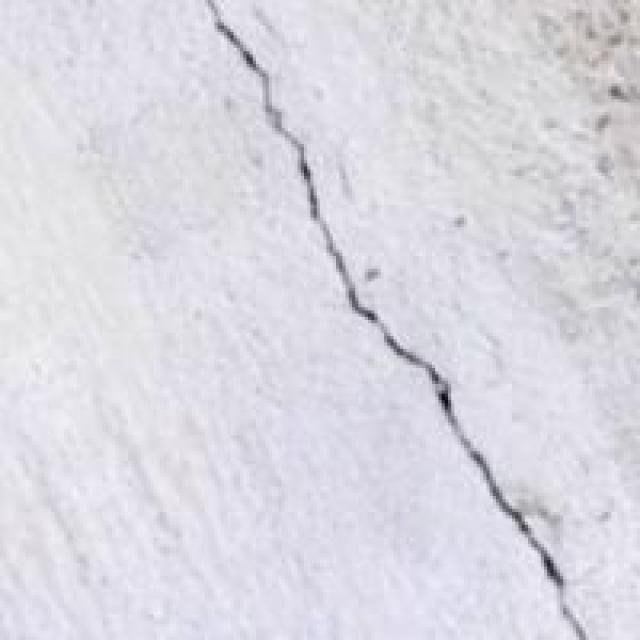crack: (218, 9, 582, 602)
